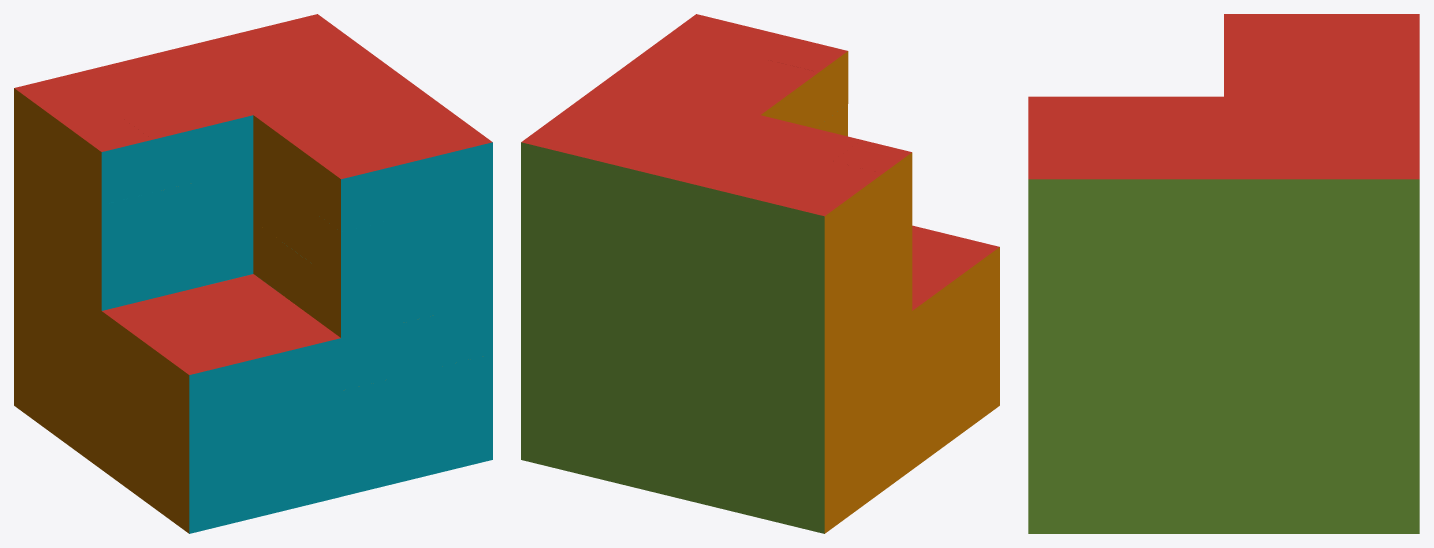
3 renders of one model, left to right at view 1: azimuth 30°, elevation 25°; view 2: azimuth 150°, elevation 25°; view 3: azimuth 270°, elevation 25°, orthographic. The views are drawn at different scales.
Visible parts, largest first — view 1: node_MeshObject-1978135552-PolyPaper4, node_MeshObject1744752640-PolyPaper13; view 2: node_MeshObject-1978135552-PolyPaper4, node_MeshObject1744752640-PolyPaper13; view 3: node_MeshObject-1978135552-PolyPaper4, node_MeshObject1744752640-PolyPaper13.
Part boxes in pixels (x1,y1,x2,y2): node_MeshObject-1978135552-PolyPaper4: (14,14,492,533); node_MeshObject1744752640-PolyPaper13: (14,35,492,533); node_MeshObject-1978135552-PolyPaper4: (521,14,999,533); node_MeshObject1744752640-PolyPaper13: (550,35,999,533); node_MeshObject-1978135552-PolyPaper4: (1028,14,1419,533); node_MeshObject1744752640-PolyPaper13: (1028,14,1354,533).
Bounding box in the file's own units: 0.4801 × 0.4801 × 0.4801.
